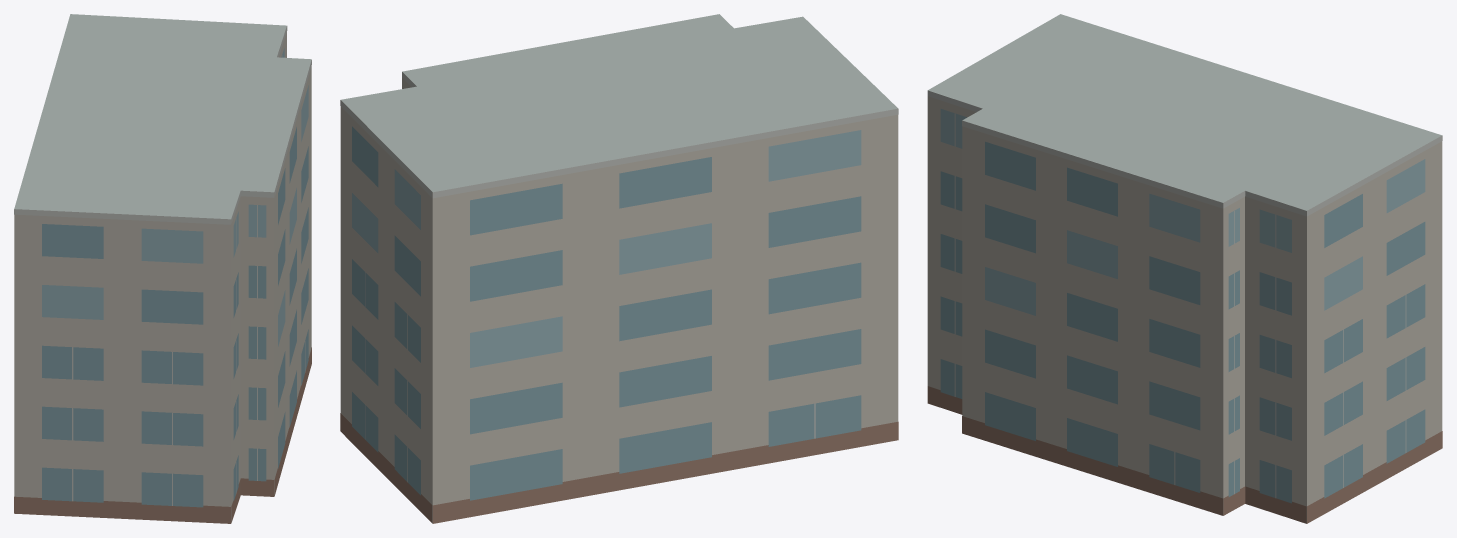
The model's file is survey-upis-32626554.glb.
The picture shows the model from 3 angles, left to right: view 1: azimuth 30°, elevation 25°; view 2: azimuth 150°, elevation 25°; view 3: azimuth 270°, elevation 25°; orthographic projection. The views are drawn at different scales.
Visible parts, largest first — view 1: survey-upis-32626554.tmp; view 2: survey-upis-32626554.tmp; view 3: survey-upis-32626554.tmp.
Part boxes in pixels (x1,y1,x2,y2): survey-upis-32626554.tmp: [14, 14, 311, 523]; survey-upis-32626554.tmp: [340, 14, 898, 523]; survey-upis-32626554.tmp: [927, 14, 1442, 523].
Size of the model in its own units: 18.09 by 13.4 by 19.98.
